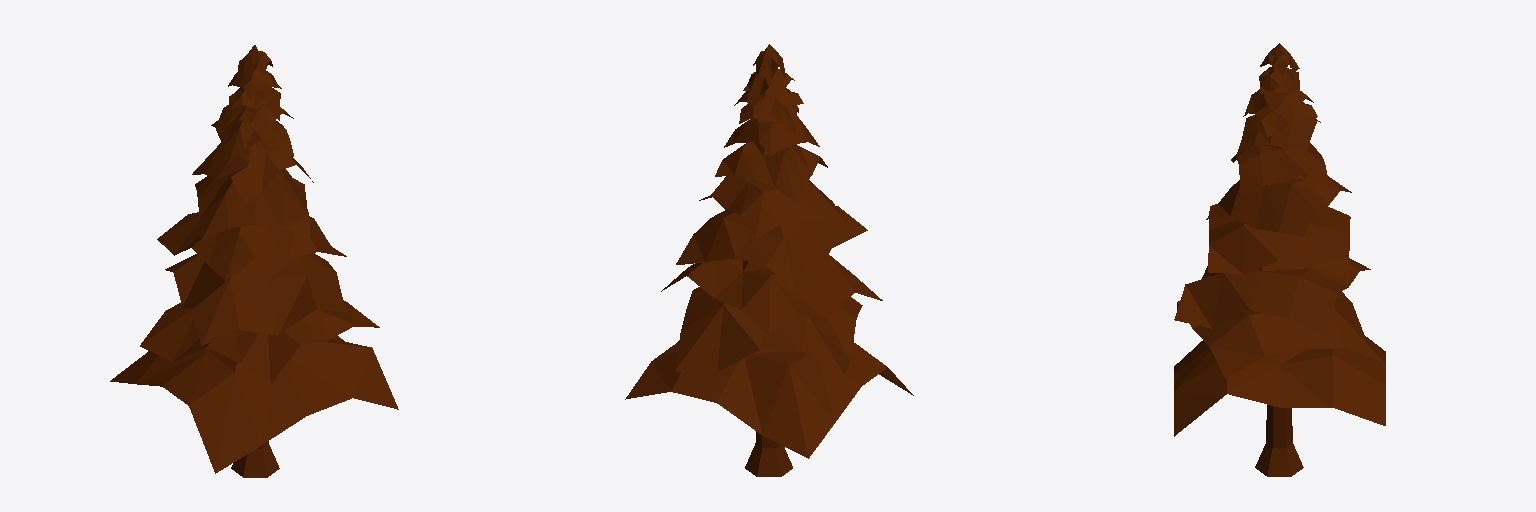
Rendered from pine.obj.
3 views of the same model, side by side, from view 1: azimuth 30°, elevation 25°; view 2: azimuth 150°, elevation 25°; view 3: azimuth 270°, elevation 25° (orthographic).
Visible parts, largest first — view 1: Grid; view 2: Grid; view 3: Grid.
Part boxes in pixels (x1,y1,x2,y2): Grid: (110,45,398,477); Grid: (625,44,913,476); Grid: (1174,43,1385,476).
Size of the model in its own units: 2.84 by 5.94 by 2.69.